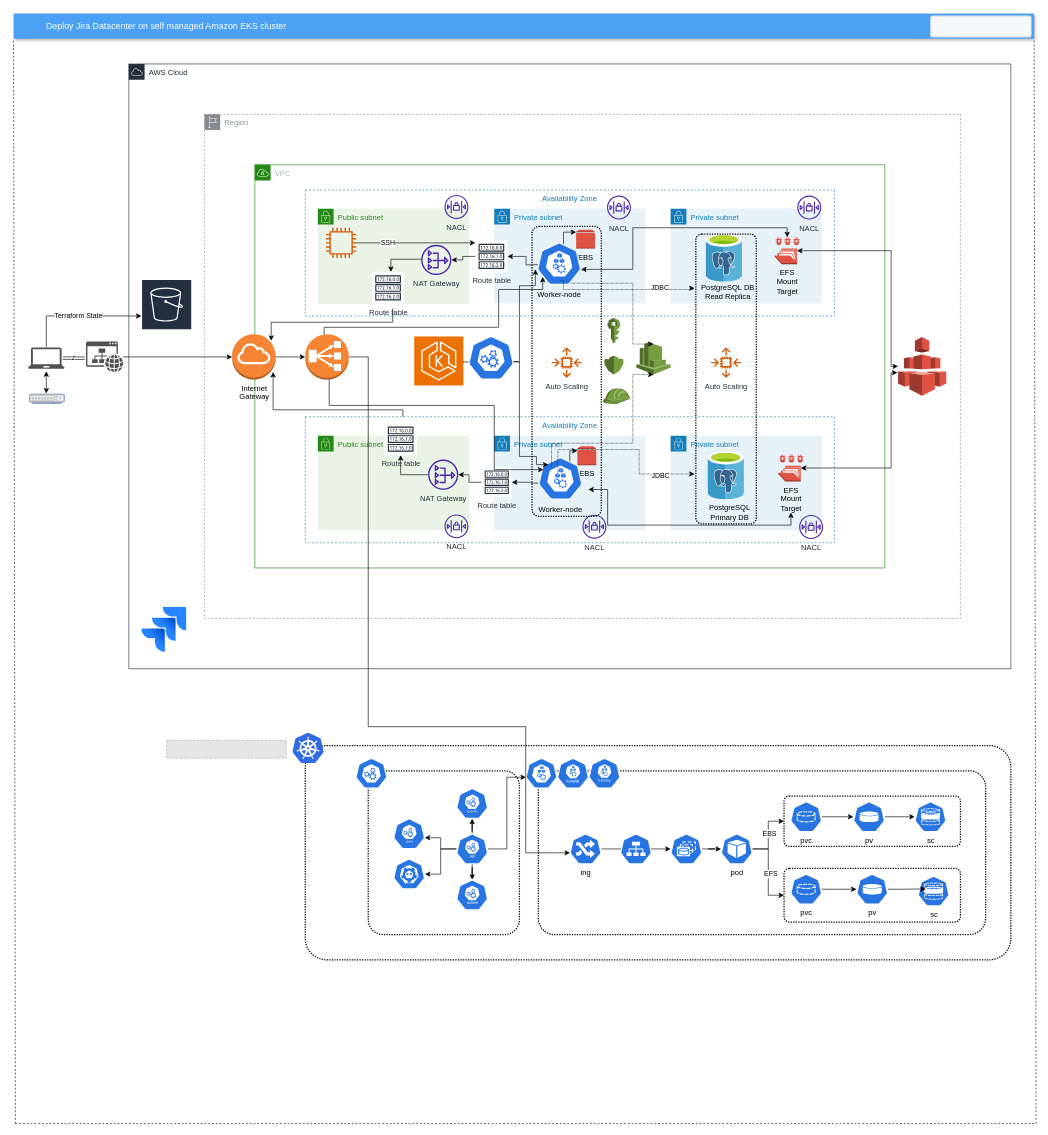
Image size: 1048x1135. Some labels were removed from this diagram. Grey dashed boxes stand in for pictures. Here are the shapes that lost their labels. From the top down, the centre of each, then its label:
the point at 980,26: https://github.com/sriteja28
the point at 341,242: Bastion Host
the point at 166,310: Amazon S3
the point at 613,330: IAM
the point at 104,356: Internet
the point at 327,357: Classic Load Balancer
the point at 438,361: Amazon EKS
the point at 490,357: Master-node
the point at 613,365: KMS
the point at 653,358: Amazon CloudWatch
the point at 921,366: Amazon EFS
the point at 46,398: Router
the point at 616,396: Roles
the point at 163,629: Jira Datacenter
the point at 371,773: Master
the point at 541,773: Worker
the point at 636,848: svc
the point at 686,848: sts
the point at 409,873: etcd
